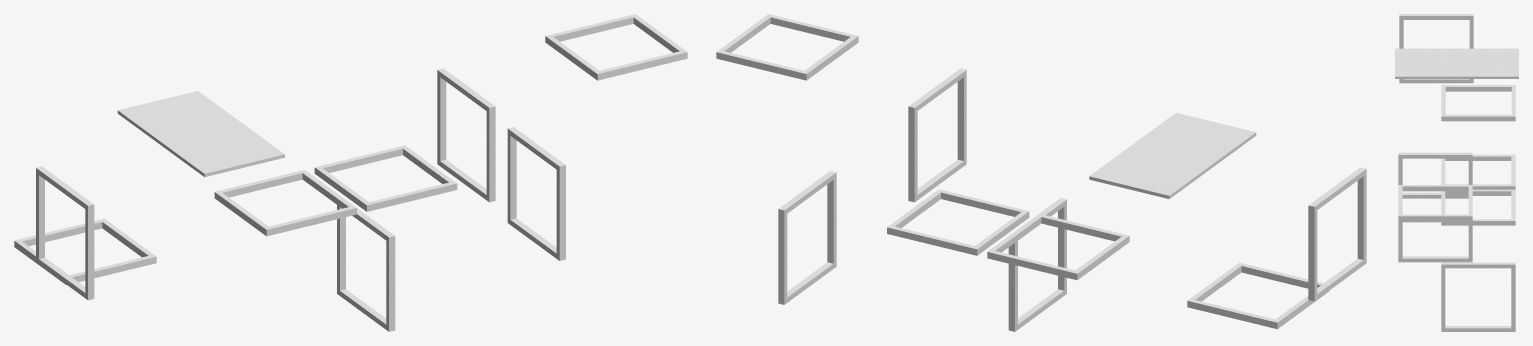
File: cluttered_environment_windows.obj
3 views of the same model, side by side, from view 1: azimuth 30°, elevation 25°; view 2: azimuth 150°, elevation 25°; view 3: azimuth 270°, elevation 25° (orthographic). The views are drawn at different scales.
Visible parts, largest first — view 1: Corpo4, Corpo8, Corpo9, Corpo7, Corpo10, Corpo5, Corpo2, Corpo6, Corpo3; view 2: Corpo4, Corpo2, Corpo8, Corpo9, Corpo7, Corpo10, Corpo5, Corpo3, Corpo6; view 3: Corpo4, Corpo9, Corpo3, Corpo10, Corpo6, Corpo2, Corpo7, Corpo8, Corpo5.
Boxes of the visible parts, bbox=[...] form: Corpo4: bbox=[117, 91, 284, 177]; Corpo8: bbox=[437, 68, 495, 202]; Corpo9: bbox=[507, 127, 565, 260]; Corpo7: bbox=[314, 145, 457, 211]; Corpo10: bbox=[545, 14, 687, 80]; Corpo5: bbox=[214, 170, 356, 236]; Corpo2: bbox=[36, 166, 94, 300]; Corpo6: bbox=[337, 205, 395, 331]; Corpo3: bbox=[14, 218, 156, 284]; Corpo4: bbox=[1089, 112, 1256, 198]; Corpo2: bbox=[1308, 167, 1366, 301]; Corpo8: bbox=[908, 68, 966, 202]; Corpo9: bbox=[778, 171, 836, 304]; Corpo7: bbox=[887, 189, 1029, 255]; Corpo10: bbox=[716, 14, 858, 80]; Corpo5: bbox=[987, 213, 1129, 280]; Corpo3: bbox=[1187, 262, 1329, 329]; Corpo6: bbox=[1008, 198, 1066, 331]; Corpo4: bbox=[1395, 48, 1518, 78]; Corpo9: bbox=[1441, 262, 1515, 331]; Corpo3: bbox=[1441, 85, 1515, 121]; Corpo10: bbox=[1398, 185, 1472, 220]; Corpo6: bbox=[1398, 192, 1472, 262]; Corpo2: bbox=[1399, 14, 1473, 83]; Corpo7: bbox=[1441, 189, 1515, 225]; Corpo8: bbox=[1398, 152, 1472, 222]; Corpo5: bbox=[1441, 154, 1515, 189].
Bounding box in the file's own units: 597 × 197 × 150.
Materials: 1 (1 with a texture image).
